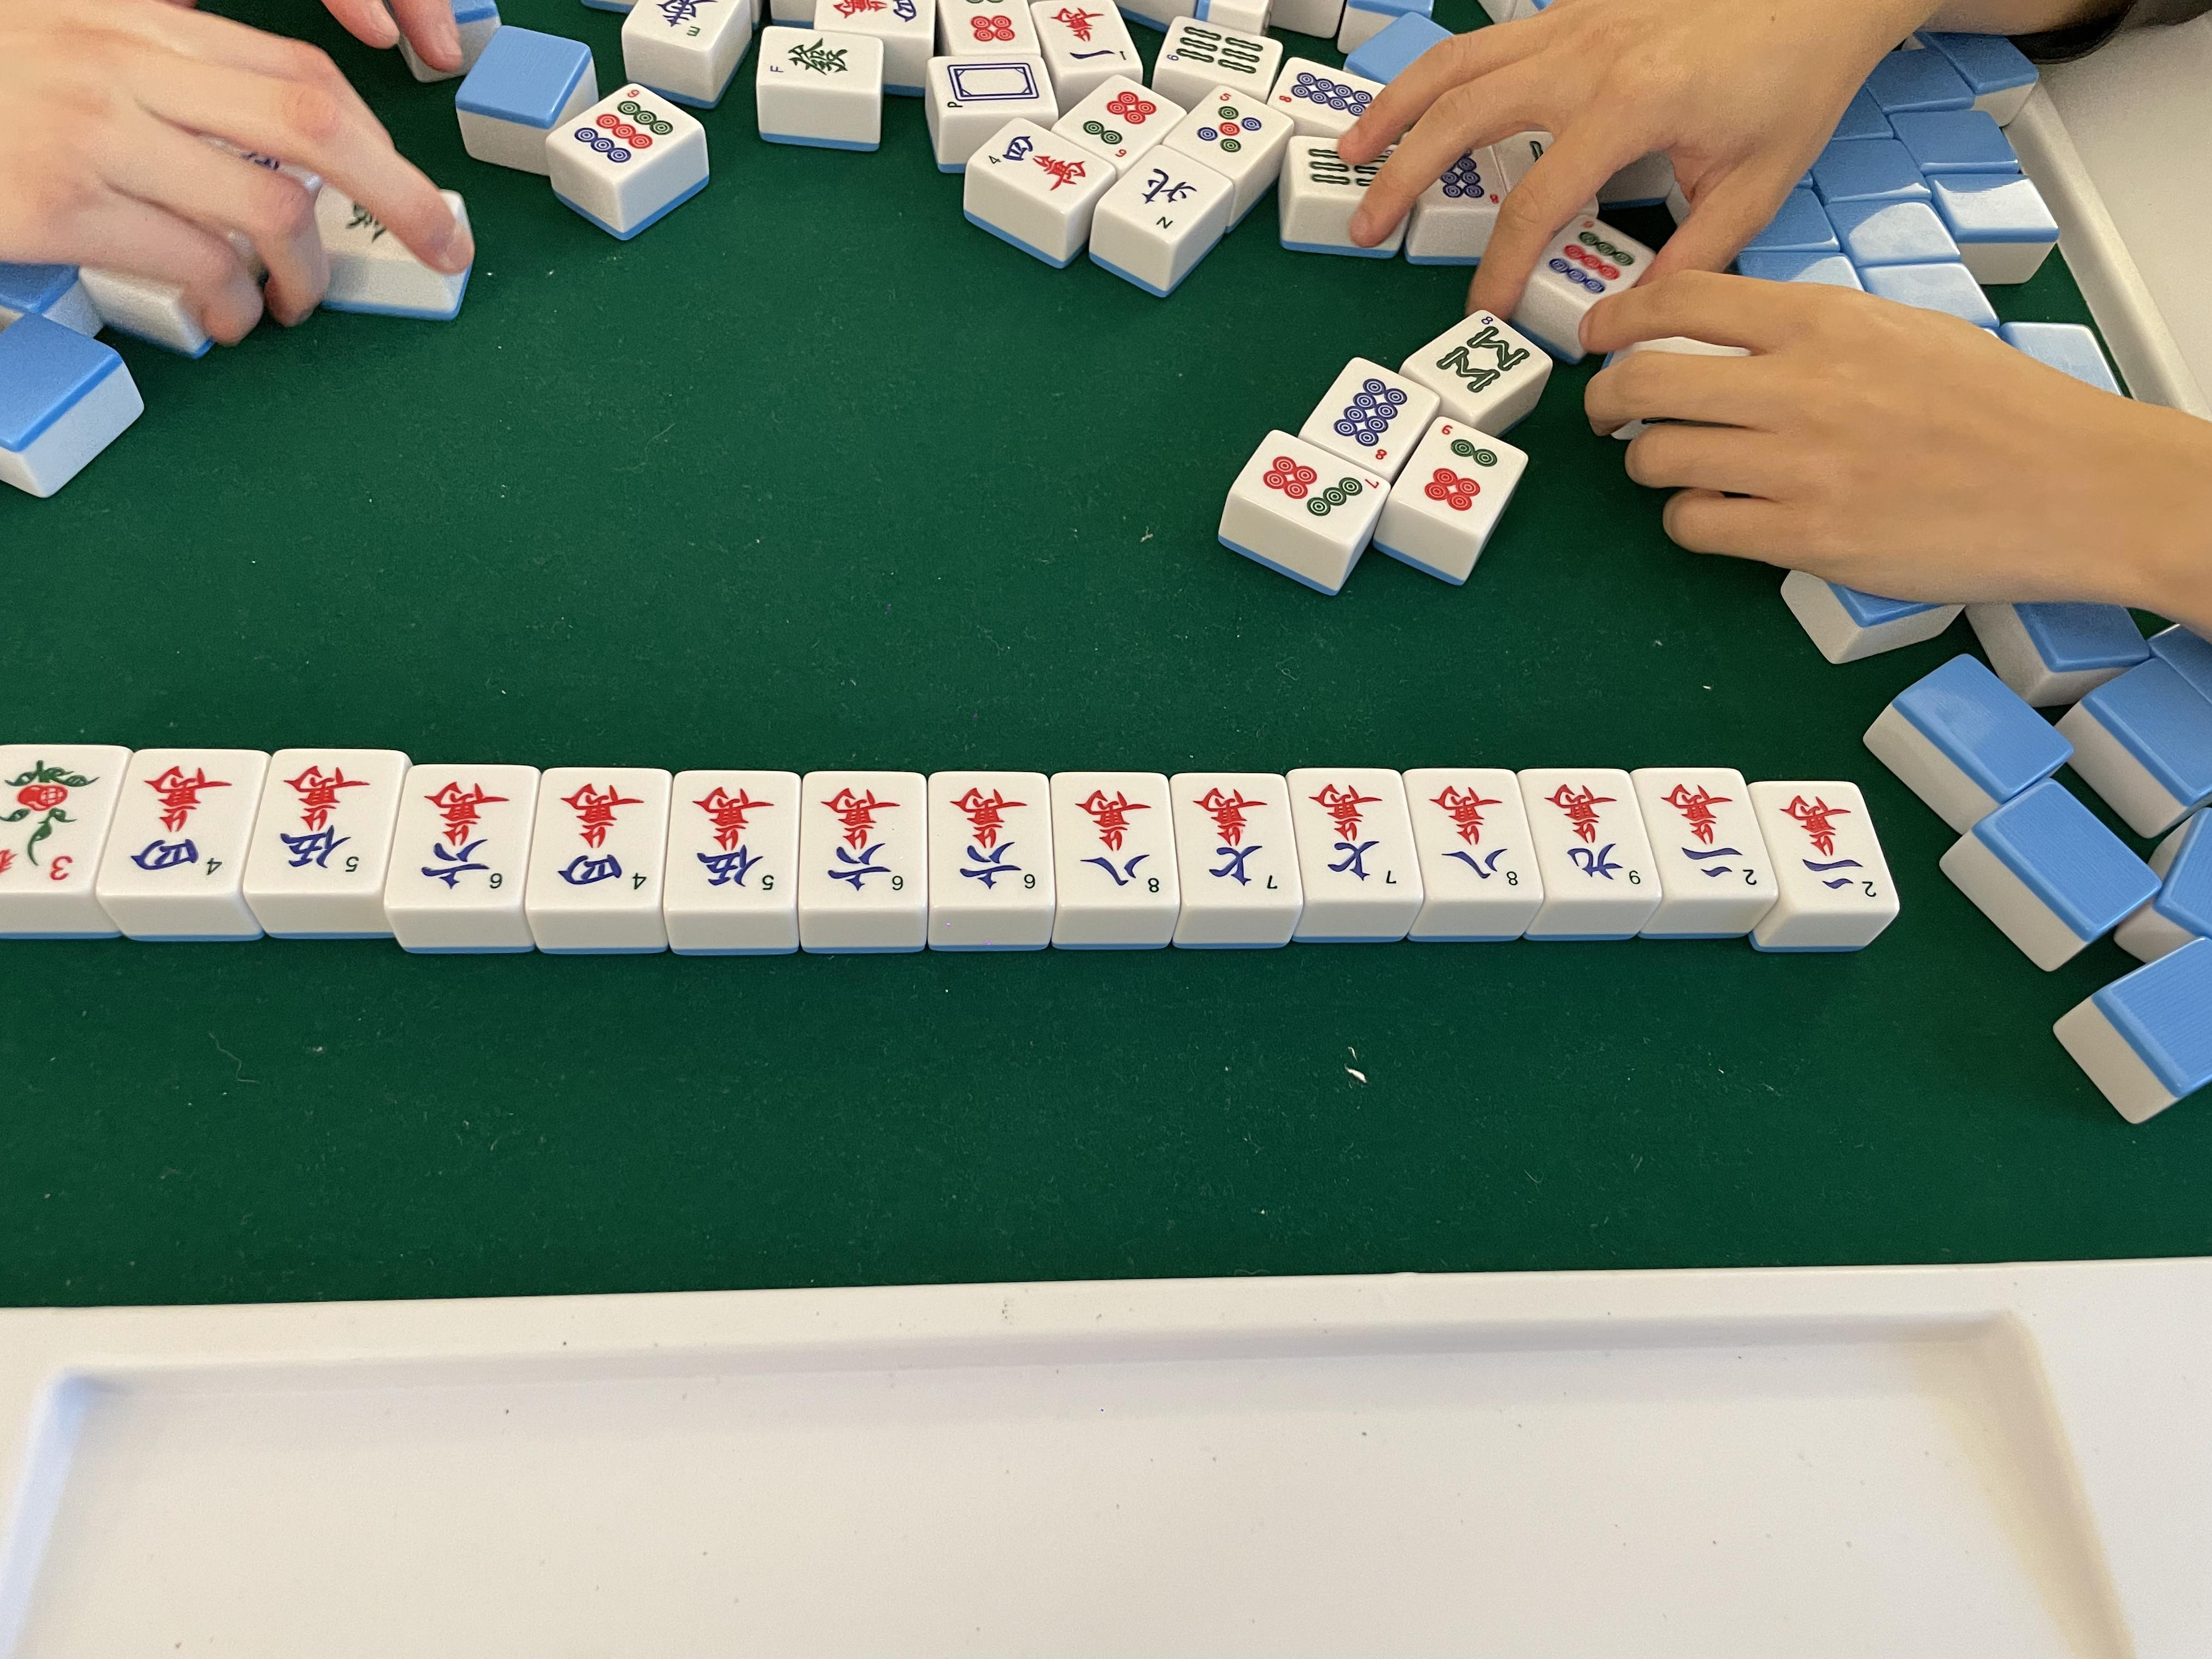character-eight: (1428, 777, 1526, 890), (1076, 779, 1165, 901)
character-five: (275, 760, 381, 878), (688, 779, 784, 903)
character-four: (131, 760, 233, 880), (557, 777, 651, 896)
character-nine: (1541, 775, 1644, 892)
character-seven: (1191, 777, 1292, 894), (1313, 777, 1402, 890)
character-six: (819, 777, 918, 903), (413, 775, 510, 897), (951, 779, 1035, 897)
character-two: (1660, 774, 1761, 892), (1778, 786, 1879, 903)
